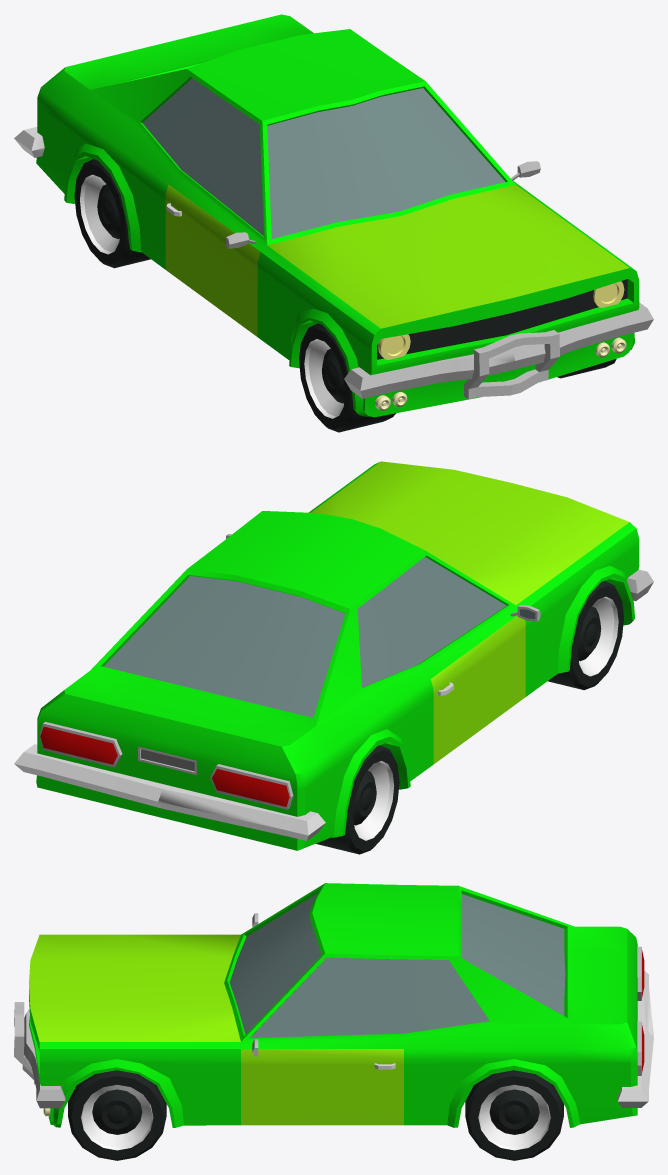
File: car_2.dae
The picture shows the model from 3 angles, top to bottom: view 1: azimuth 30°, elevation 25°; view 2: azimuth 150°, elevation 25°; view 3: azimuth 270°, elevation 25°; orthographic projection. The views are drawn at different scales.
Parts seen in each view (by area): view 1: car2, whell, whell.001; view 2: car2, whell.001, whell; view 3: car2, whell.002, whell.003.
Boxes of the visible parts, left/top/right/bottom form: car2: left=14, top=14, right=653, bottom=417; whell: left=299, top=323, right=395, bottom=432; whell.001: left=74, top=159, right=150, bottom=268; car2: left=14, top=461, right=653, bottom=850; whell.001: left=316, top=745, right=399, bottom=854; whell: left=548, top=581, right=623, bottom=689; car2: left=14, top=883, right=653, bottom=1127; whell.002: left=465, top=1070, right=563, bottom=1160; whell.003: left=68, top=1070, right=166, bottom=1160.
Size of the model in its own units: 2.43 by 1.61 by 4.88.
Materials: 1 (1 with a texture image).
